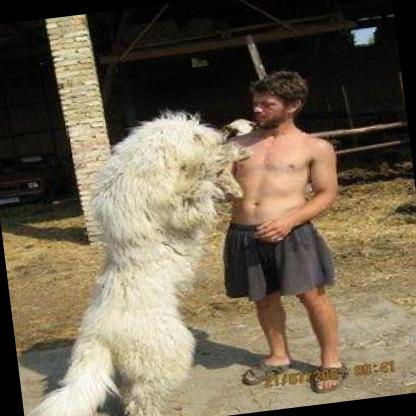komondor: (0, 100, 281, 416)
